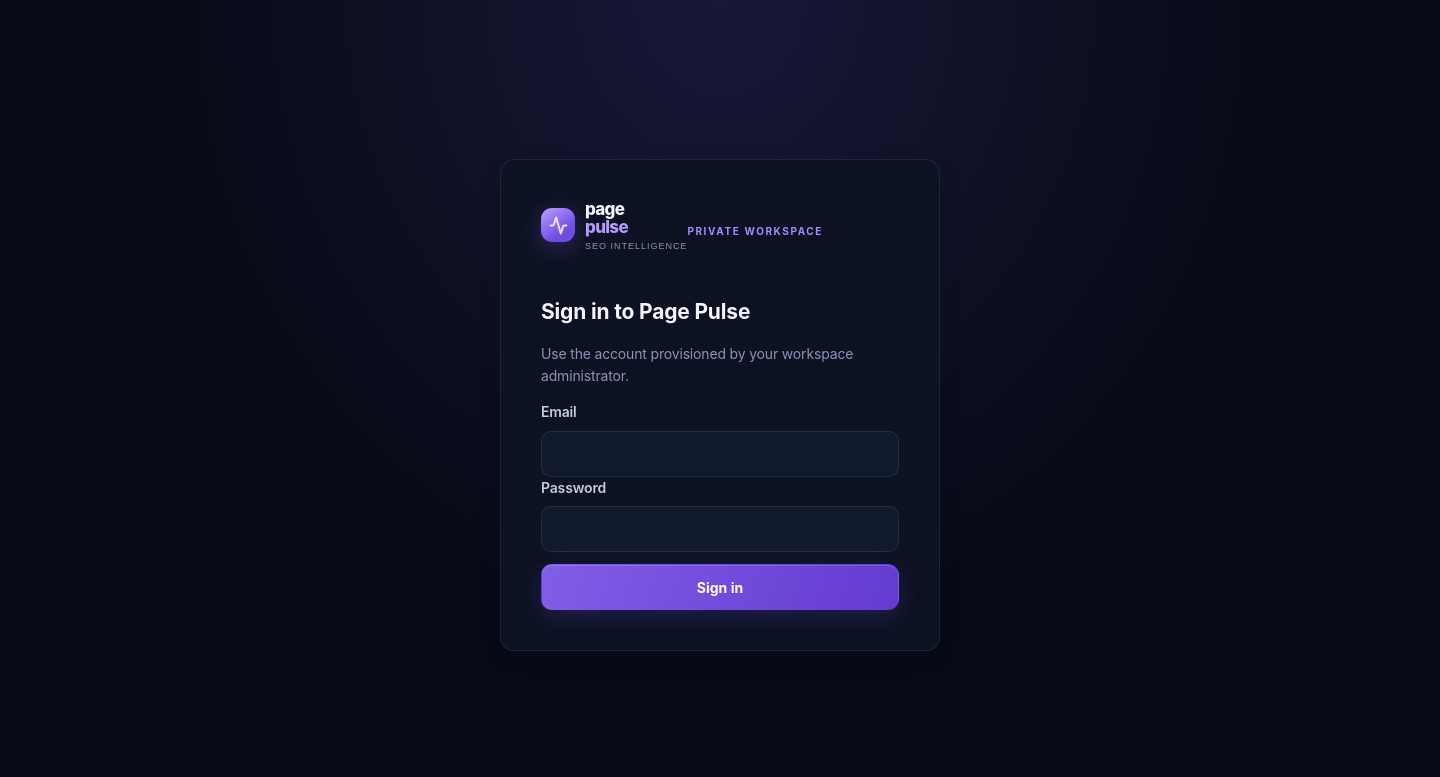
Test: Page Pulse public and workspace flow › requires sign-in for protected production workspaces and opens the session after authentication
Type "audit@example.test" into the field labelled "Email" at (720, 454), box [541,431,899,477]
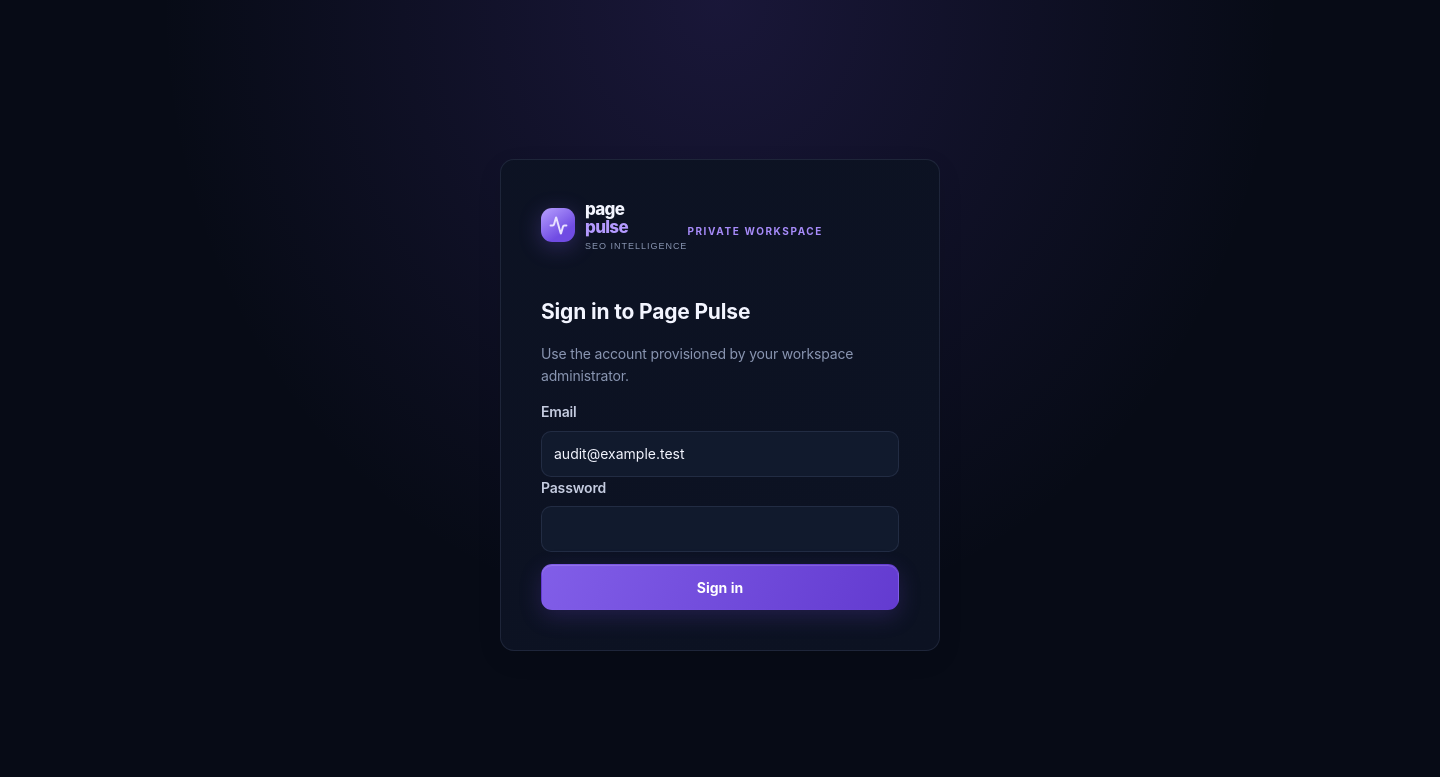
Type "a-test-password" into the password field labelled "Password" at (720, 529), box [541,506,899,552]
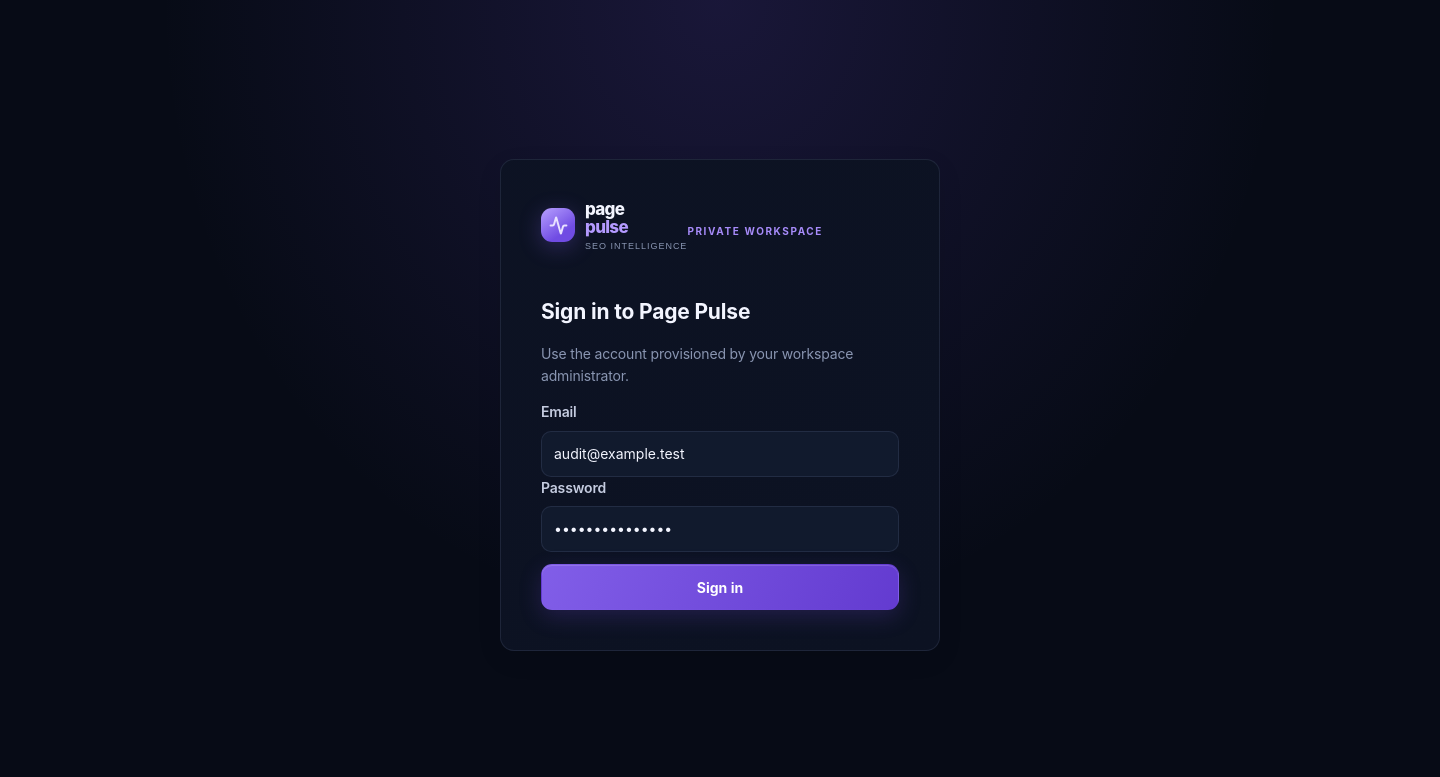
Click the button "Sign in" at (720, 587), box [541,564,899,610]
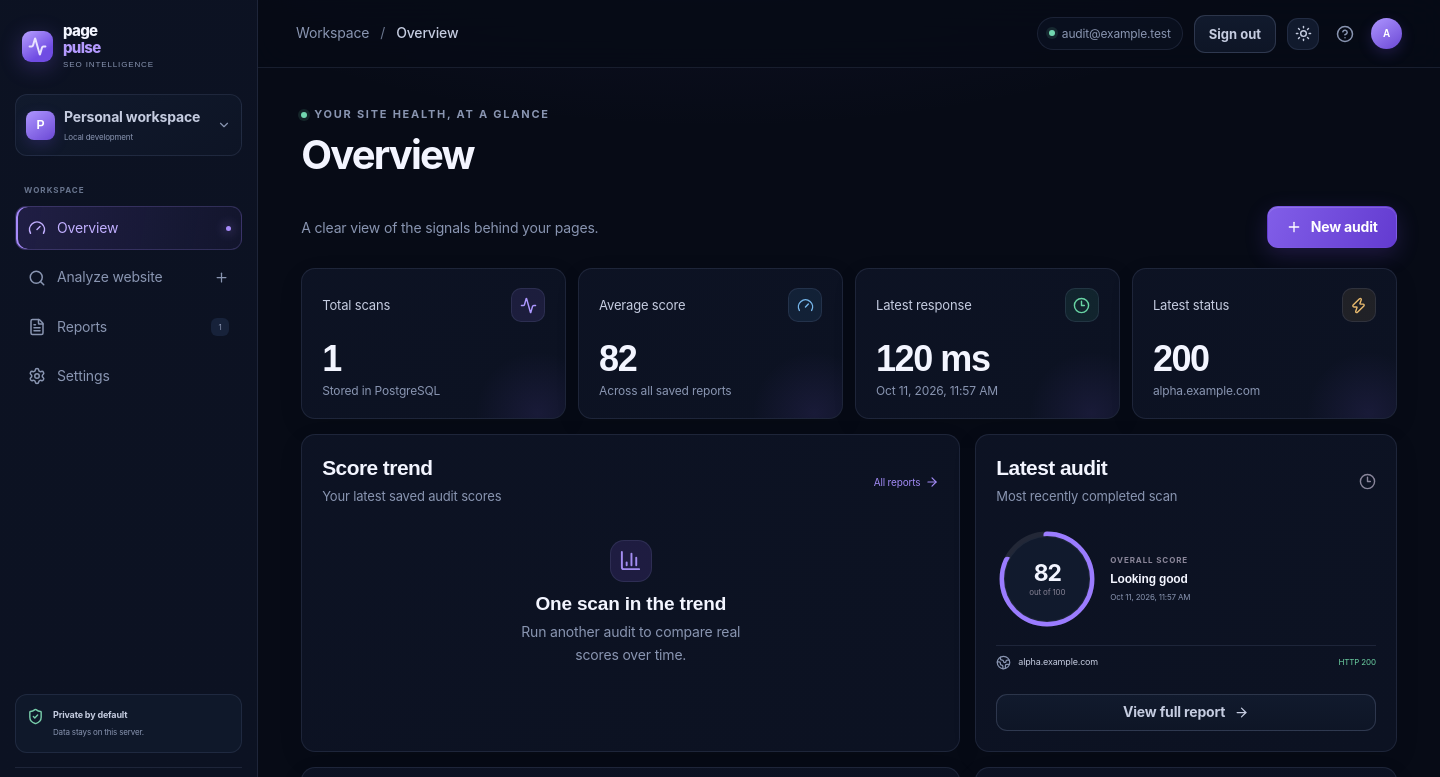
Now the heading "Overview" is shown, box [301,130,474,179]
Now the text "audit@example.test" is shown, box [1037,17,1183,50]
